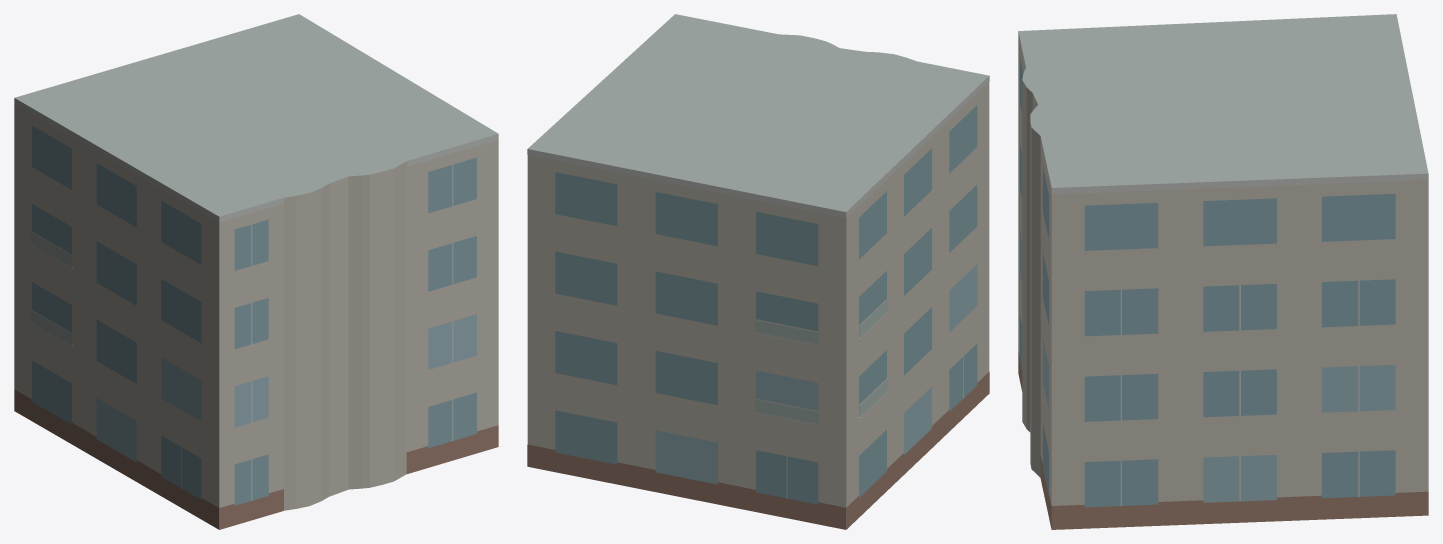
Rendered from survey-upis-32737183.glb.
The picture shows the model from 3 angles, left to right: view 1: azimuth 30°, elevation 25°; view 2: azimuth 150°, elevation 25°; view 3: azimuth 270°, elevation 25°; orthographic projection. The views are drawn at different scales.
Visible parts, largest first — view 1: survey-upis-32737183.tmp; view 2: survey-upis-32737183.tmp; view 3: survey-upis-32737183.tmp.
Part boxes in pixels (x1,y1,x2,y2): survey-upis-32737183.tmp: (14, 14, 498, 529); survey-upis-32737183.tmp: (527, 14, 989, 529); survey-upis-32737183.tmp: (1018, 14, 1428, 529).
Size of the model in its own units: 13.98 by 12.8 by 13.93.
